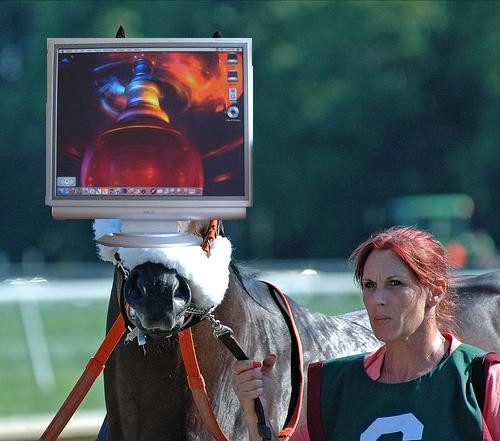tampered: (46, 39, 253, 248)
